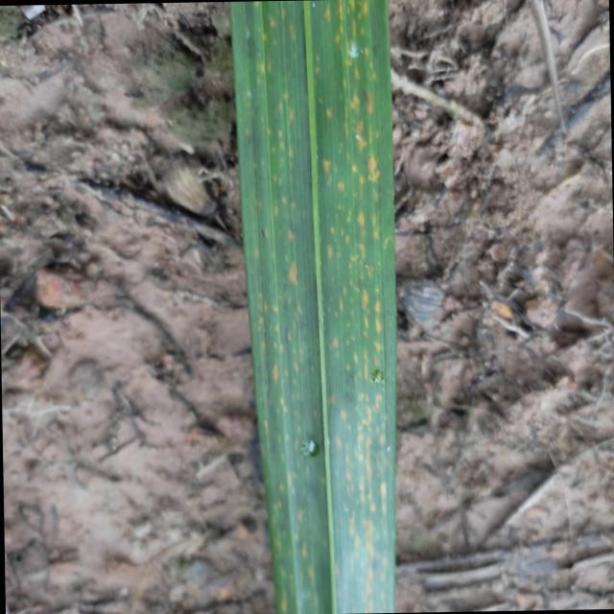Kalium: (228, 0, 396, 614)
